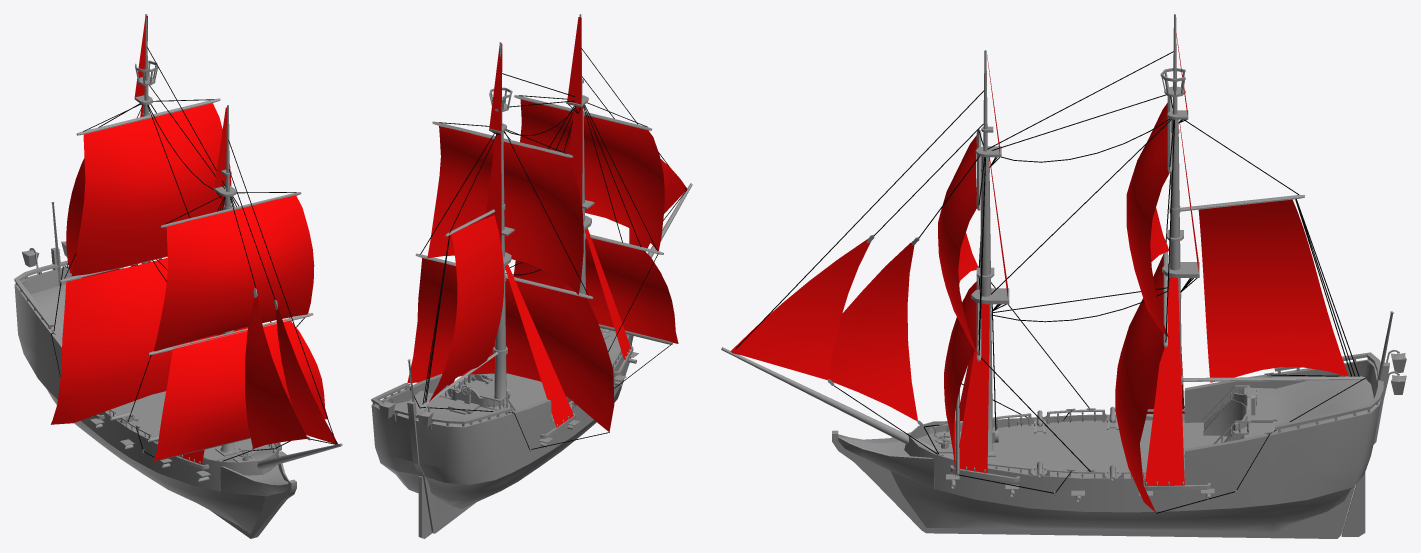
The model's file is Pirate_Ship_drive_Anim.FBX.
The picture shows the model from 3 angles, left to right: view 1: azimuth 30°, elevation 25°; view 2: azimuth 150°, elevation 25°; view 3: azimuth 270°, elevation 25°; orthographic projection. The views are drawn at different scales.
Parts seen in each view (by area): view 1: Segel_Takelagen, Pirate_Ship; view 2: Segel_Takelagen, Pirate_Ship; view 3: Pirate_Ship, Segel_Takelagen.
Boxes of the visible parts, x1,y1,x2,y2 form: Segel_Takelagen: [51, 16, 337, 464]; Pirate_Ship: [14, 14, 342, 538]; Segel_Takelagen: [407, 17, 687, 431]; Pirate_Ship: [371, 14, 692, 538]; Pirate_Ship: [721, 14, 1406, 538]; Segel_Takelagen: [730, 18, 1348, 512].
Size of the model in its own units: 65.1 by 135 by 161.
